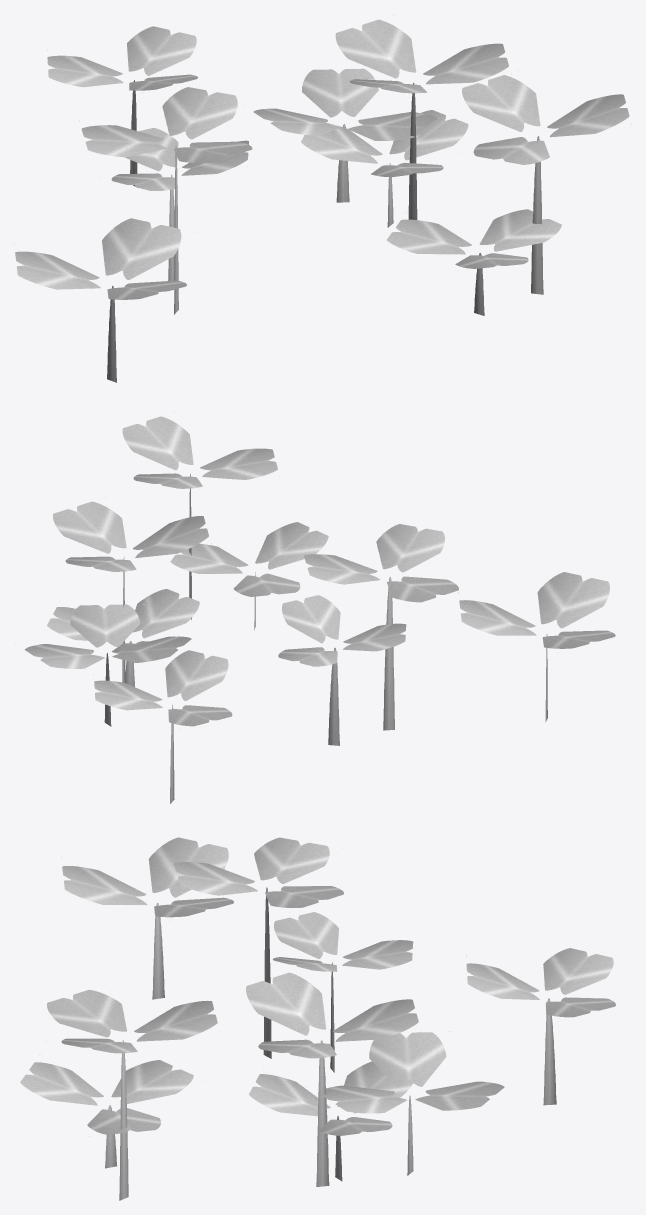
File: clover.glb
The picture shows the model from 3 angles, top to bottom: view 1: azimuth 30°, elevation 25°; view 2: azimuth 150°, elevation 25°; view 3: azimuth 270°, elevation 25°; orthographic projection. The views are drawn at different scales.
Visible parts, largest first — view 1: grass-clover; view 2: grass-clover; view 3: grass-clover.
Boxes of the visible parts, x1=… form: grass-clover: x1=14, y1=14, x2=631, y2=382; grass-clover: x1=24, y1=412, x2=624, y2=803; grass-clover: x1=20, y1=837, x2=628, y2=1200.
Size of the model in its own units: 0.3054 by 0.0925 by 0.2758.
Materials: 1 (1 with a texture image).
